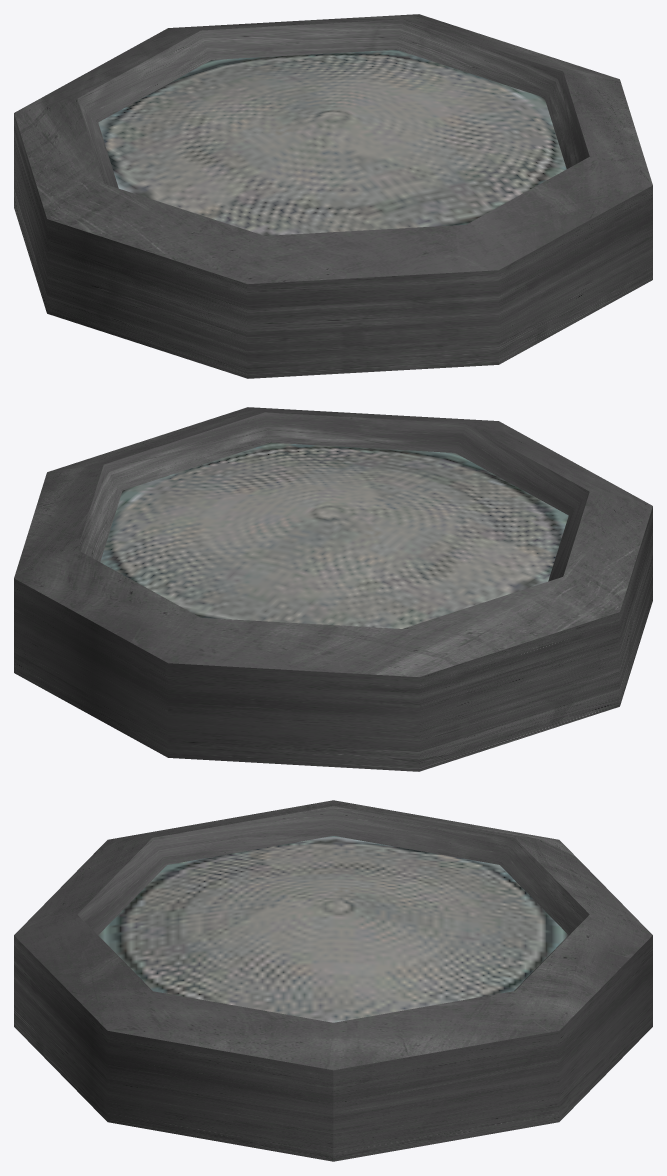
The model's file is p6_lights_club_recessed_off_lod1.glb.
The picture shows the model from 3 angles, top to bottom: view 1: azimuth 30°, elevation 25°; view 2: azimuth 150°, elevation 25°; view 3: azimuth 270°, elevation 25°; orthographic projection. The views are drawn at different scales.
Visible parts, largest first — view 1: surf0, surf1; view 2: surf0, surf1; view 3: surf0, surf1.
Part boxes in pixels (x1,y1,x2,y2): surf0: [14, 14, 652, 378]; surf1: [98, 49, 566, 235]; surf0: [14, 407, 652, 771]; surf1: [100, 442, 568, 628]; surf0: [14, 800, 652, 1161]; surf1: [98, 836, 568, 1022].
Size of the model in its own units: 10.08 by 2.14 by 10.08.
